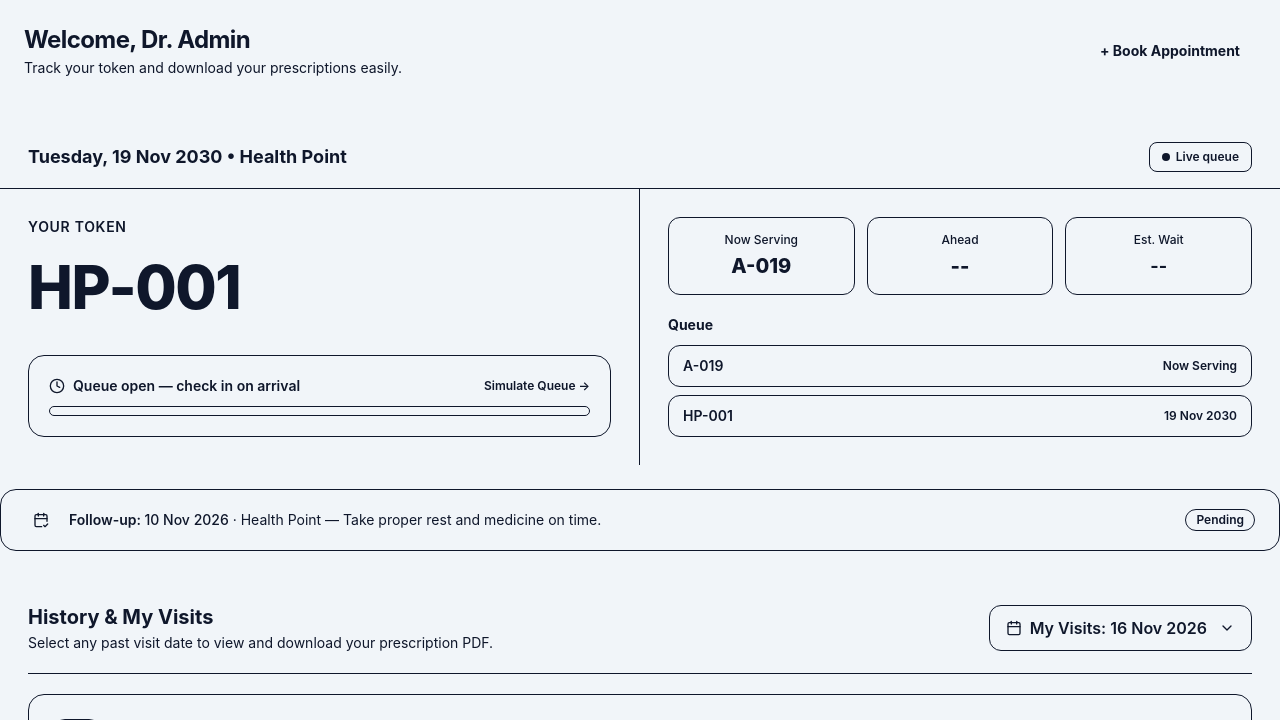
Test: Audit fixes verification › Issue 17 & BUG-27: Redesigned Patient Home has Welcome bar, Live queue top-corner + Simulate Queue, Follow-up small message, History & My Visits without Consult
The width and height of the screenshot is (1280, 720).
expect the heading "Welcome, Dr. Admin" is shown: met, box [24,25,250,54]
expect the button "+ Book Appointment" is shown: met, box [1084,31,1256,71]
Interactive Simulate Queue cycles queue stages cleanly
Click the button "Simulate Queue →": click(537, 386) [484,378,590,394]
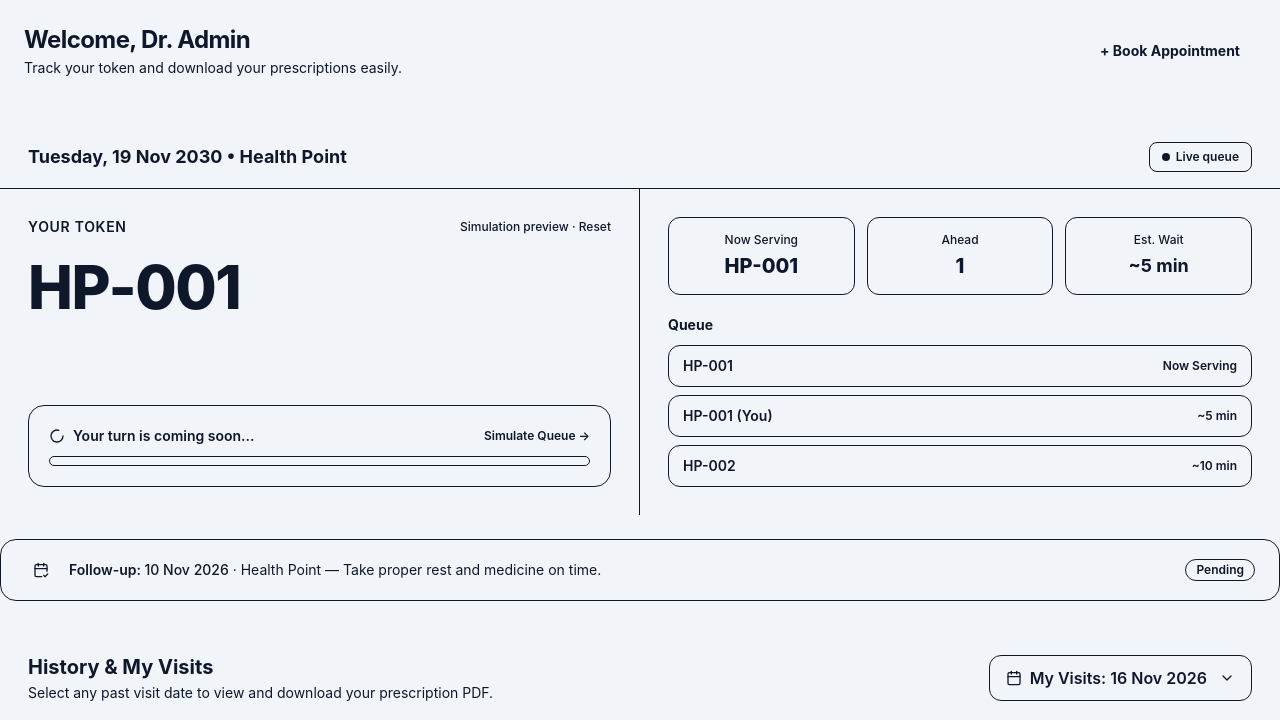
expect the text "Your turn is coming soon..." is shown: met, box [73,426,254,446]
Click the button "Simulate Queue →": click(537, 436) [484,428,590,444]
(page scrolled)
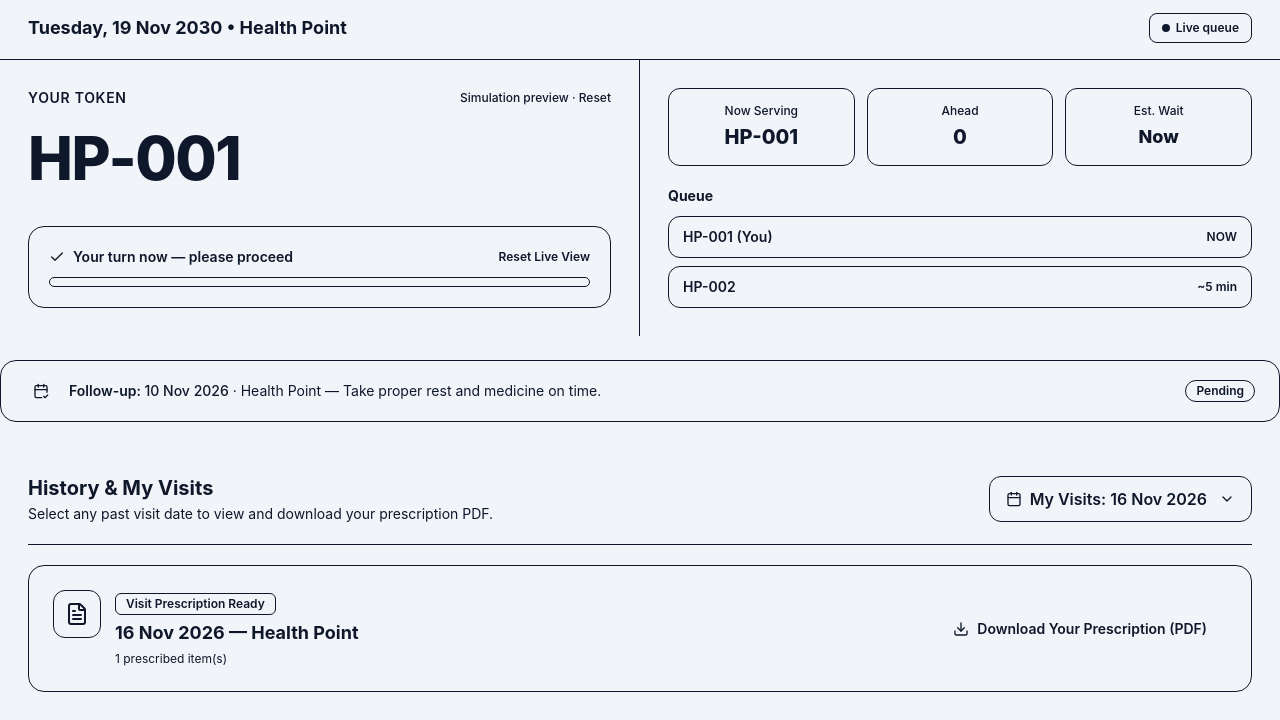
expect the text "Take proper rest and medicine on time." is shown: met, box [321,382,601,399]
expect the text "Your turn now — please proceed" is shown: met, box [73,247,293,267]
expect the text "NOW" is shown: met, box [1207,229,1237,245]
